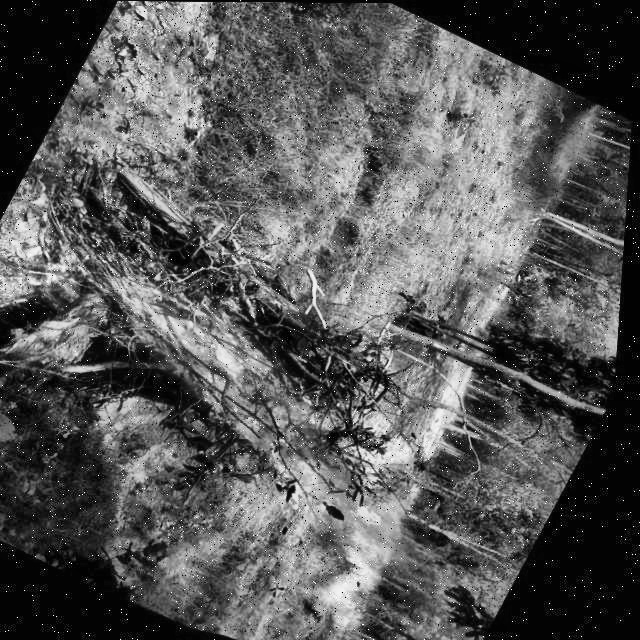Fire: (0, 210, 541, 595)
